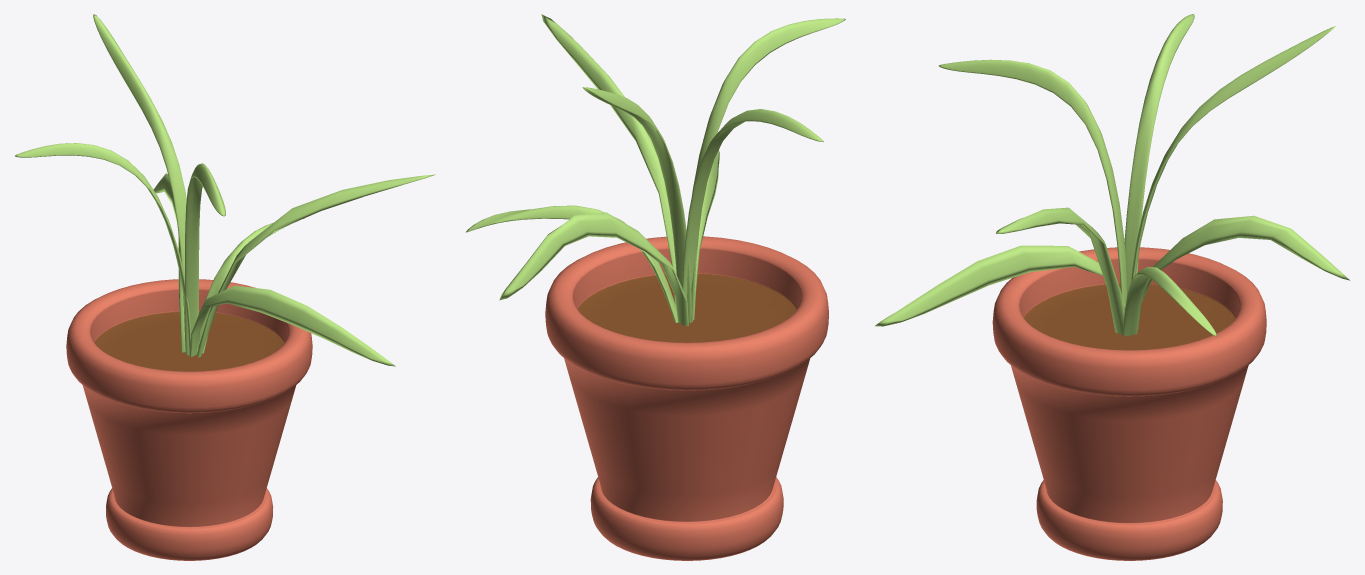
The model's file is SmallPlant.fbx.
3 views of the same model, side by side, from view 1: azimuth 30°, elevation 25°; view 2: azimuth 150°, elevation 25°; view 3: azimuth 270°, elevation 25° (orthographic). The views are drawn at different scales.
Visible parts, largest first — view 1: Circle.004; view 2: Circle.004; view 3: Circle.004.
Boxes of the visible parts, bbox=[...] form: Circle.004: bbox=[15, 14, 435, 560]; Circle.004: bbox=[465, 14, 845, 560]; Circle.004: bbox=[875, 14, 1349, 560].
Size of the model in its own units: 264 by 338 by 294.
